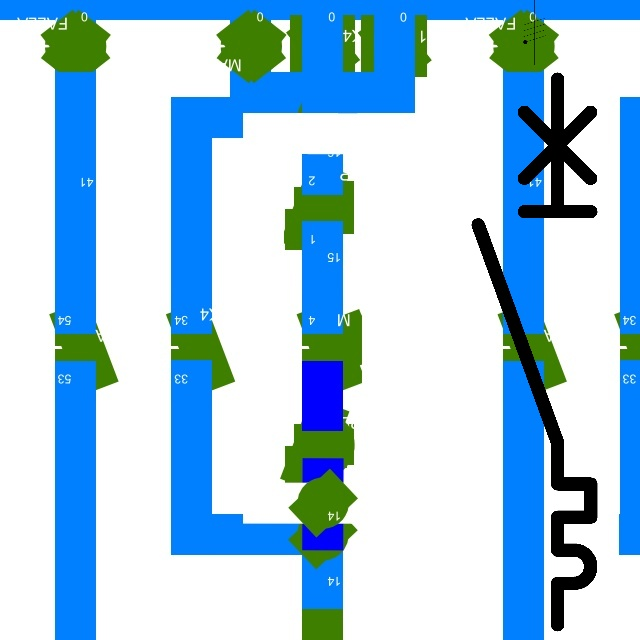interruptor_termomagnetico: (464, 64, 605, 638)
